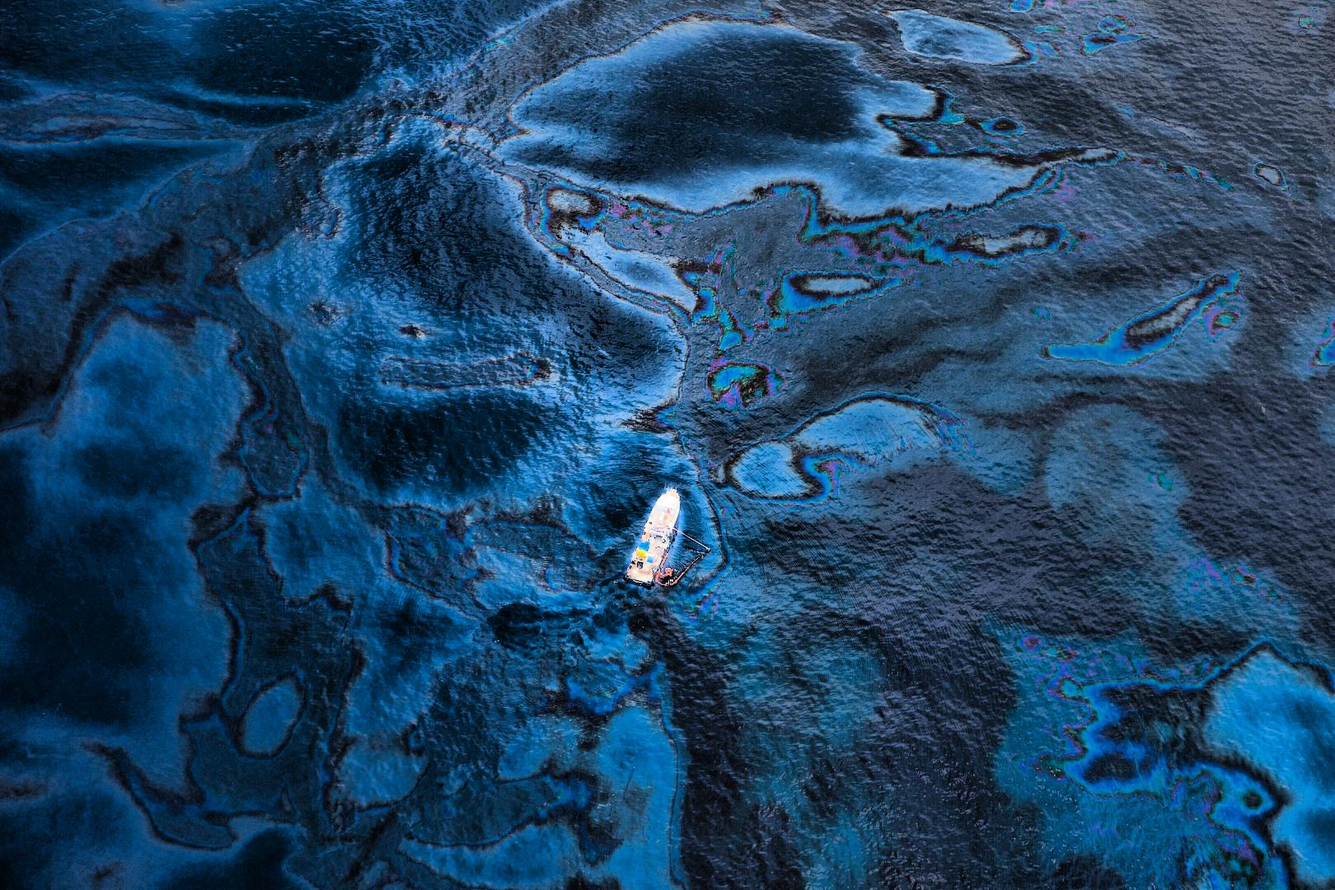truecolor: (593, 0, 1335, 890), (105, 3, 681, 890)
